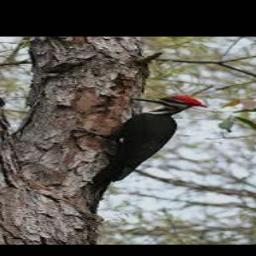Woodpecker: (71, 95, 208, 213)
